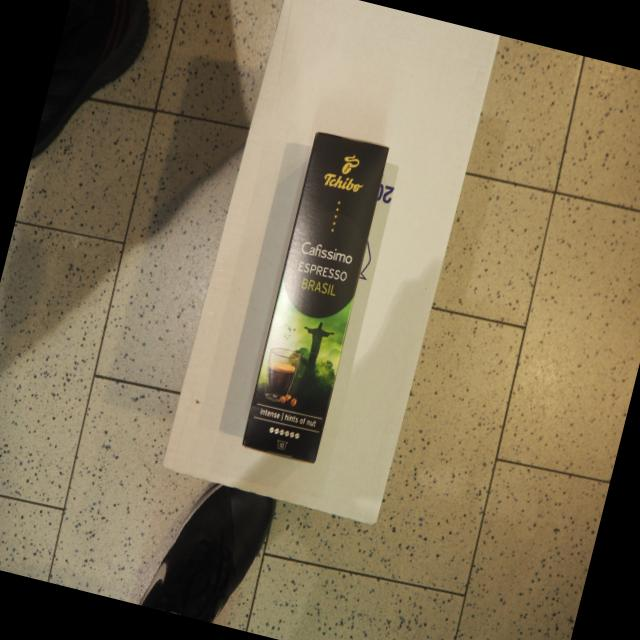Simo Es Brazil: (236, 124, 396, 468)
